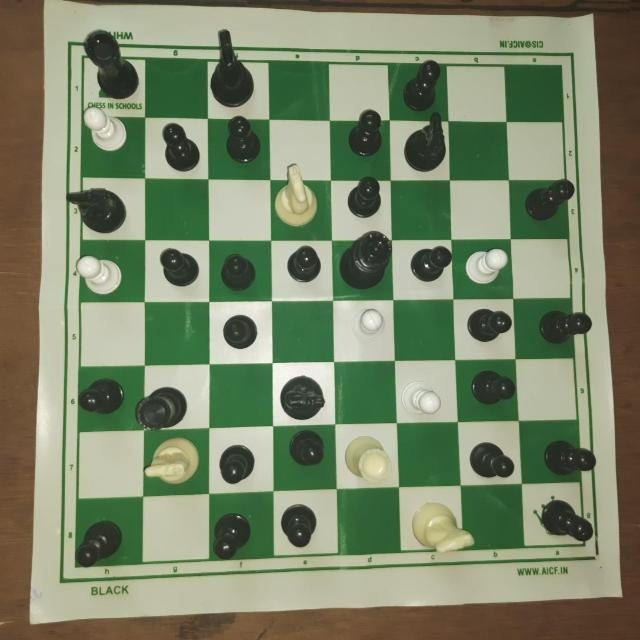black-knight: (69, 186, 127, 243), (210, 29, 251, 107), (400, 113, 447, 175), (279, 370, 323, 422)
black-pawn: (63, 515, 127, 571), (539, 495, 596, 550), (517, 179, 578, 227), (347, 106, 394, 161), (415, 241, 462, 296), (153, 123, 204, 173), (214, 437, 265, 487), (533, 304, 590, 348), (80, 375, 124, 432), (397, 58, 442, 112), (469, 439, 523, 483), (205, 511, 249, 561), (462, 309, 513, 350), (219, 243, 266, 287), (153, 245, 197, 291), (223, 114, 263, 164), (289, 426, 329, 474), (283, 510, 321, 560), (471, 368, 516, 409), (220, 316, 262, 355), (543, 443, 594, 475), (350, 175, 387, 219), (287, 244, 322, 285)
black-queen: (340, 227, 390, 282)
black-rook: (78, 30, 139, 106), (134, 383, 193, 433)
white-knight: (405, 495, 479, 570), (146, 437, 207, 489), (274, 164, 319, 230)
white-pawn: (460, 238, 510, 290), (79, 105, 126, 155), (348, 302, 390, 356), (75, 255, 126, 299), (399, 375, 443, 415)
white-rook: (345, 429, 397, 483)
